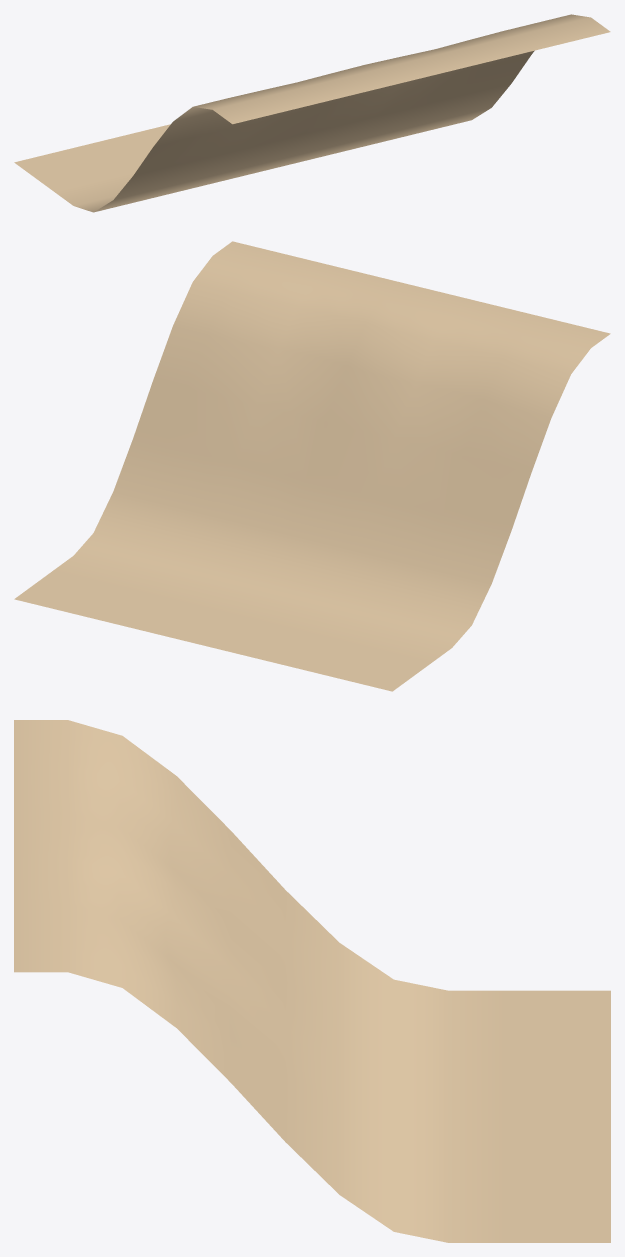
Rendered from sand_edge.fbx.
3 renders of one model, top to bottom at view 1: azimuth 30°, elevation 25°; view 2: azimuth 150°, elevation 25°; view 3: azimuth 270°, elevation 25°, orthographic. The views are drawn at different scales.
Parts seen in each view (by area): view 1: Edge; view 2: Edge; view 3: Edge.
Boxes of the visible parts, box(x1,y1,x2,y2) form: Edge: box(14, 14, 610, 212); Edge: box(14, 241, 610, 691); Edge: box(14, 720, 610, 1242).
Bounding box in the file's own units: 100 × 50 × 100.
